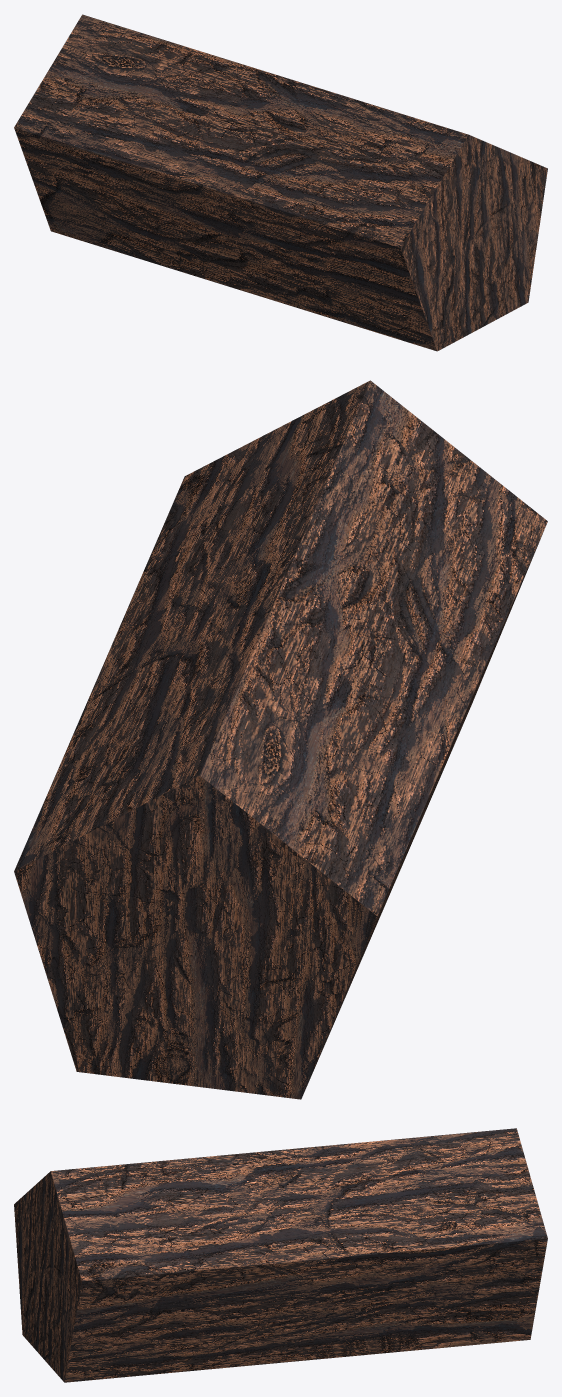
File: camplog.glb
The picture shows the model from 3 angles, top to bottom: view 1: azimuth 30°, elevation 25°; view 2: azimuth 150°, elevation 25°; view 3: azimuth 270°, elevation 25°; orthographic projection. The views are drawn at different scales.
Visible parts, largest first — view 1: campfire; view 2: campfire; view 3: campfire.
Boxes of the visible parts, box(x1,y1,x2,y2) form: campfire: box(14, 14, 547, 351); campfire: box(14, 380, 547, 1099); campfire: box(14, 1128, 547, 1382).
Size of the model in its own units: 0.4794 by 0.3086 by 0.7161.
Materials: 1 (1 with a texture image).
